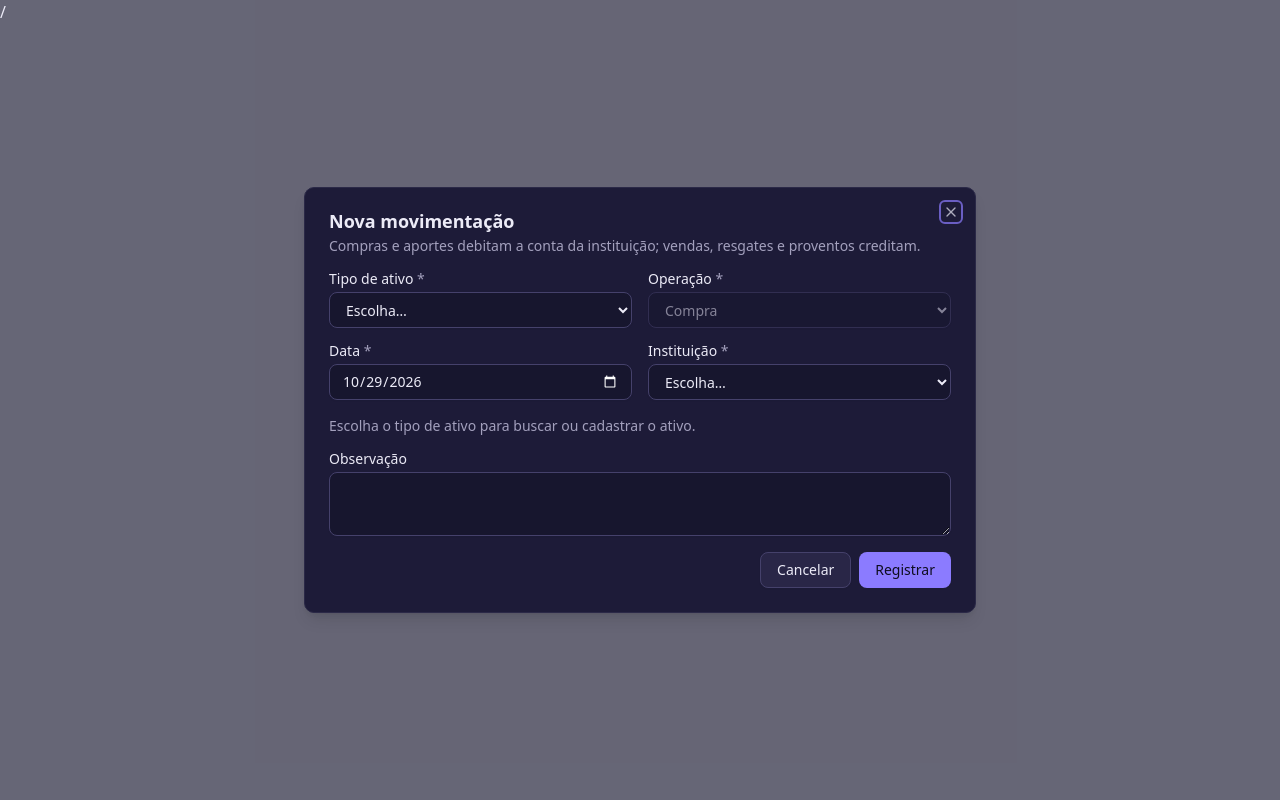
Scenario: DialogoTransacao (formulário único) › operações mudam com o tipo (renda fixa: aporte e resgate)
Select "Renda fixa" in the dropdown labelled "Tipo de ativo *" at (480,310), box [329, 292, 632, 328]
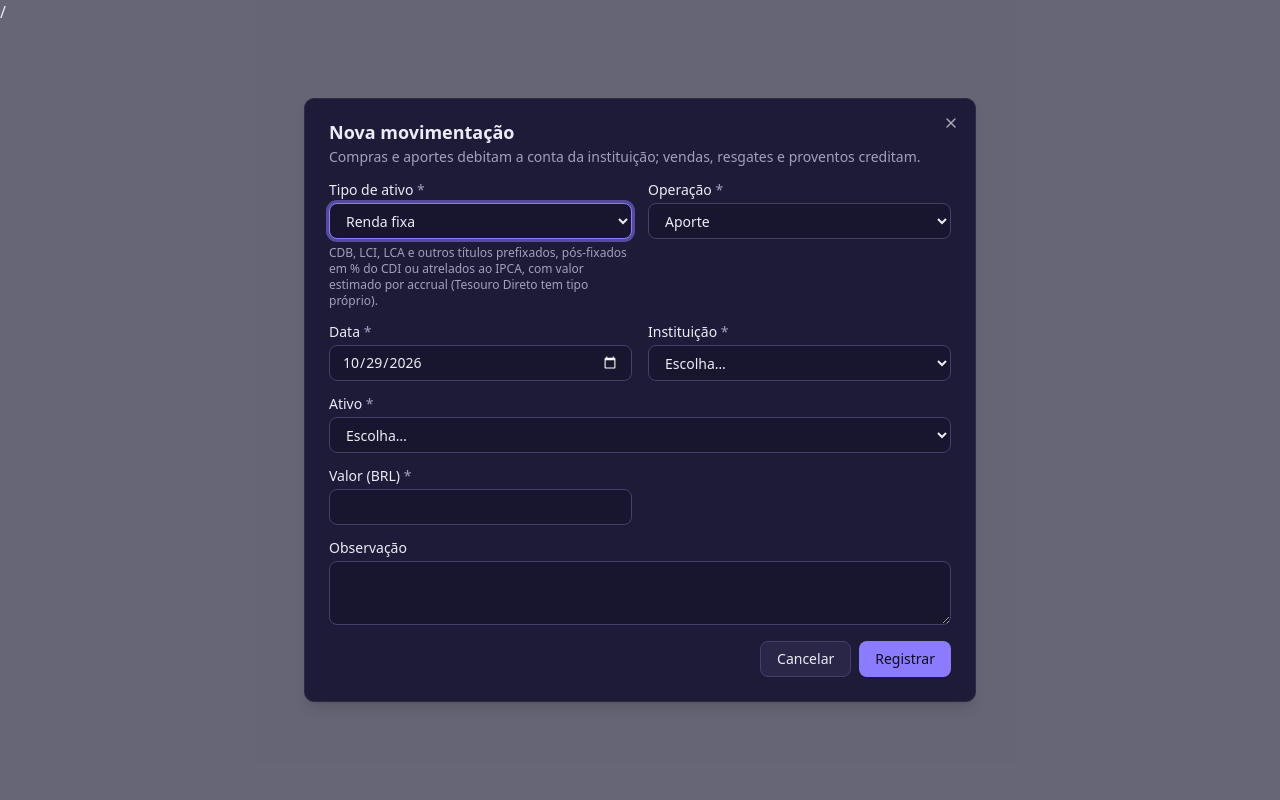
Result: the dropdown labelled "Operação *" shows "Aporte" at [648, 203, 951, 239]
Result: the field labelled "Valor (BRL) *" is shown at [329, 489, 632, 525]
